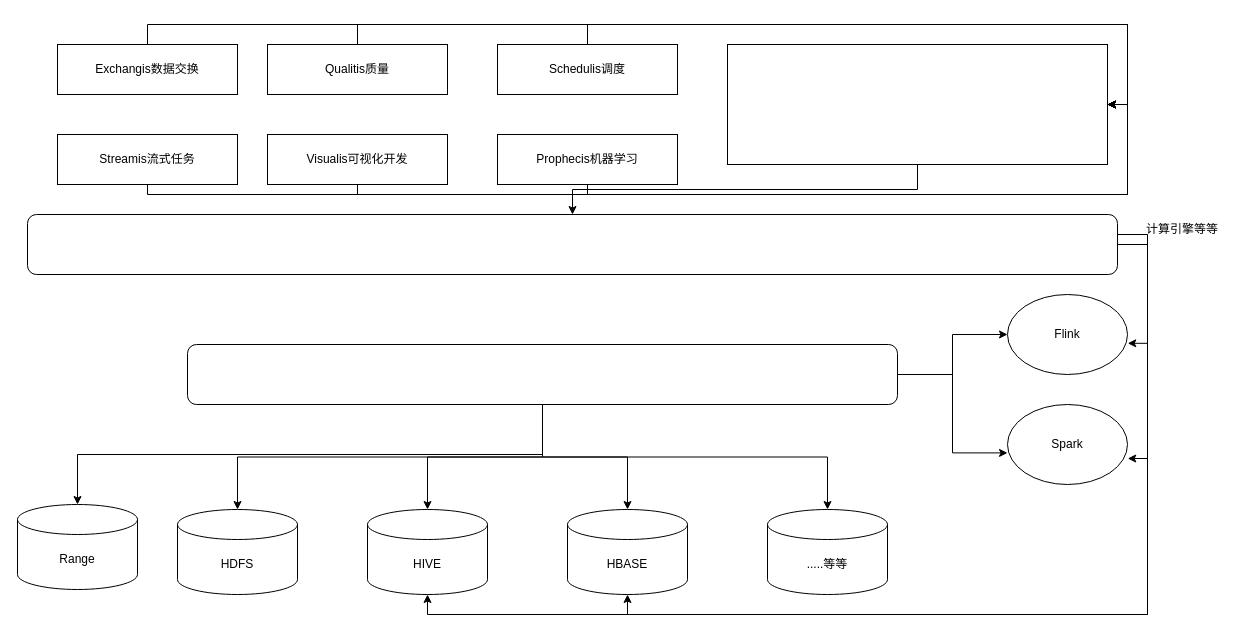
The diagram is 1255 pixels wide and 640 high, and some of its shapes have lost their labels. Each missing label, with the box of its shape:
dss(包括script脚本开发): (726, 44, 1108, 164)
linkis: (26, 214, 1118, 274)
USDP安装, 类比 CDH , HDP: (186, 344, 898, 404)
